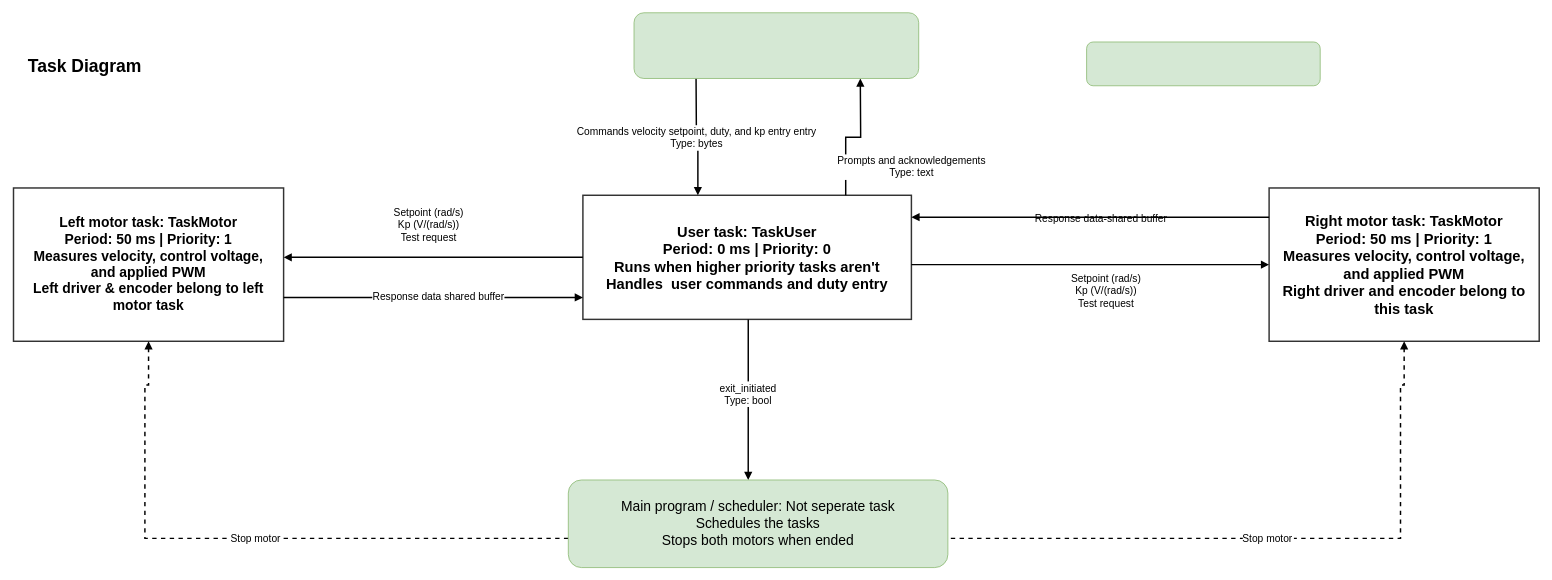
Some shapes in this 1552 by 580 pixel diagram are drawn without their labels. Each missing label, with the centre of its shape:
Context bubbles: not a part of the official task diagram: (1203,63)
PC: PuTTY or automation script COM5 / USB VCP One connection at a time: (776,45)
